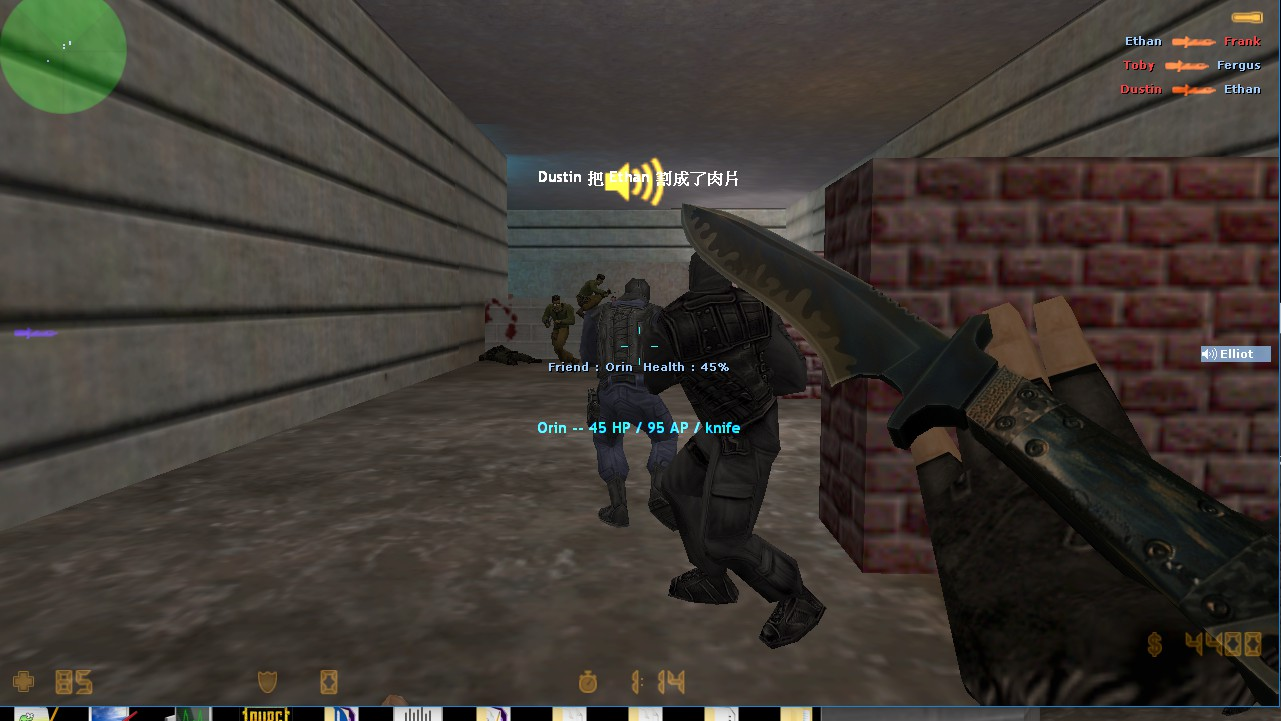person: (638, 240, 838, 663), (576, 273, 684, 536), (538, 291, 579, 376), (575, 265, 610, 318)
